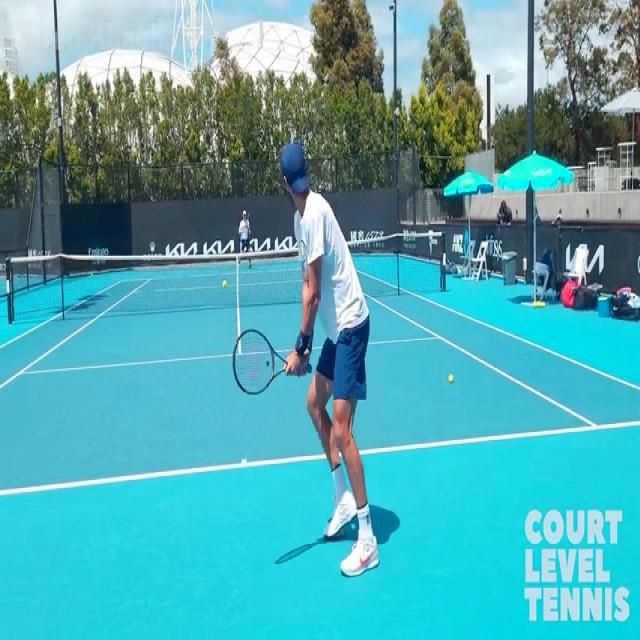backhand-ready: (230, 133, 378, 584)
